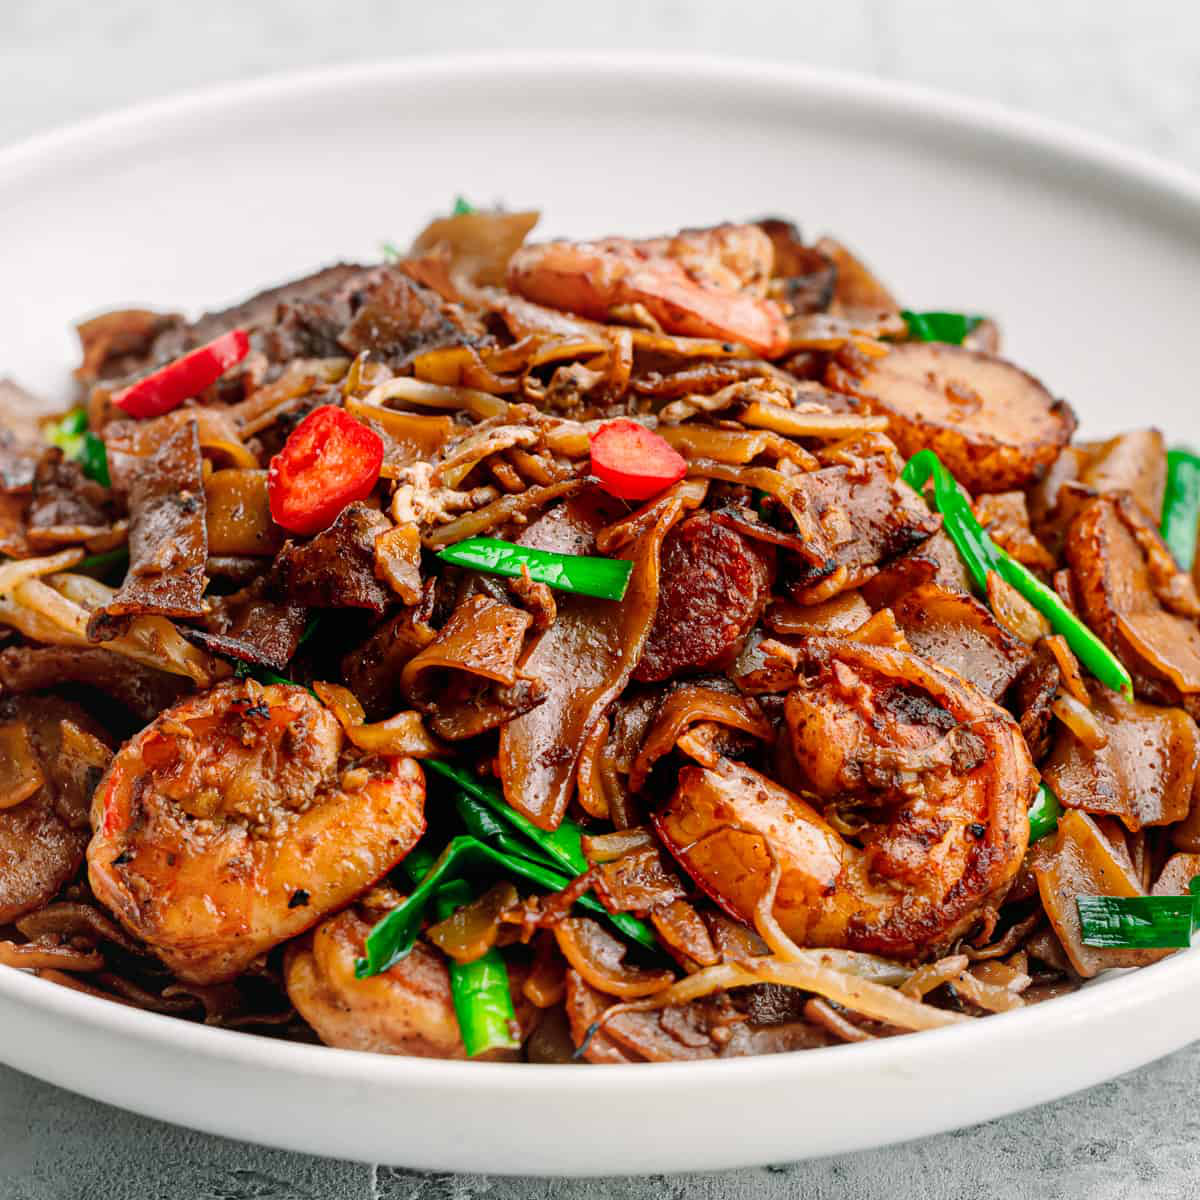Char Kway Teow: (32, 197, 1175, 982)
